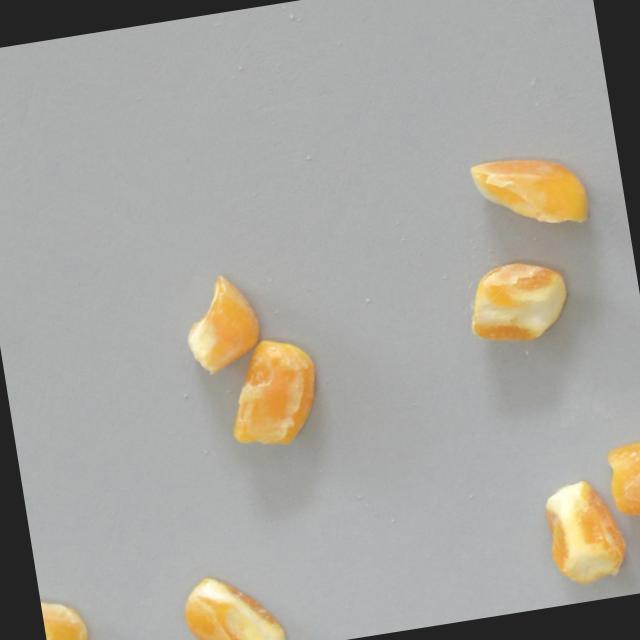pelicula: (448, 244, 585, 363), (459, 129, 597, 247), (217, 332, 328, 454), (535, 471, 640, 593), (174, 267, 266, 378), (179, 563, 289, 640), (603, 431, 640, 536), (39, 584, 102, 640)
